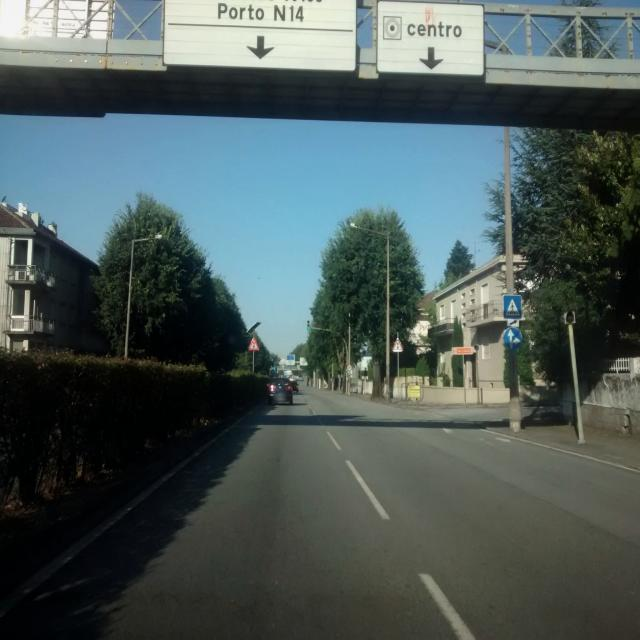car: (266, 376, 294, 407), (289, 380, 299, 394)
